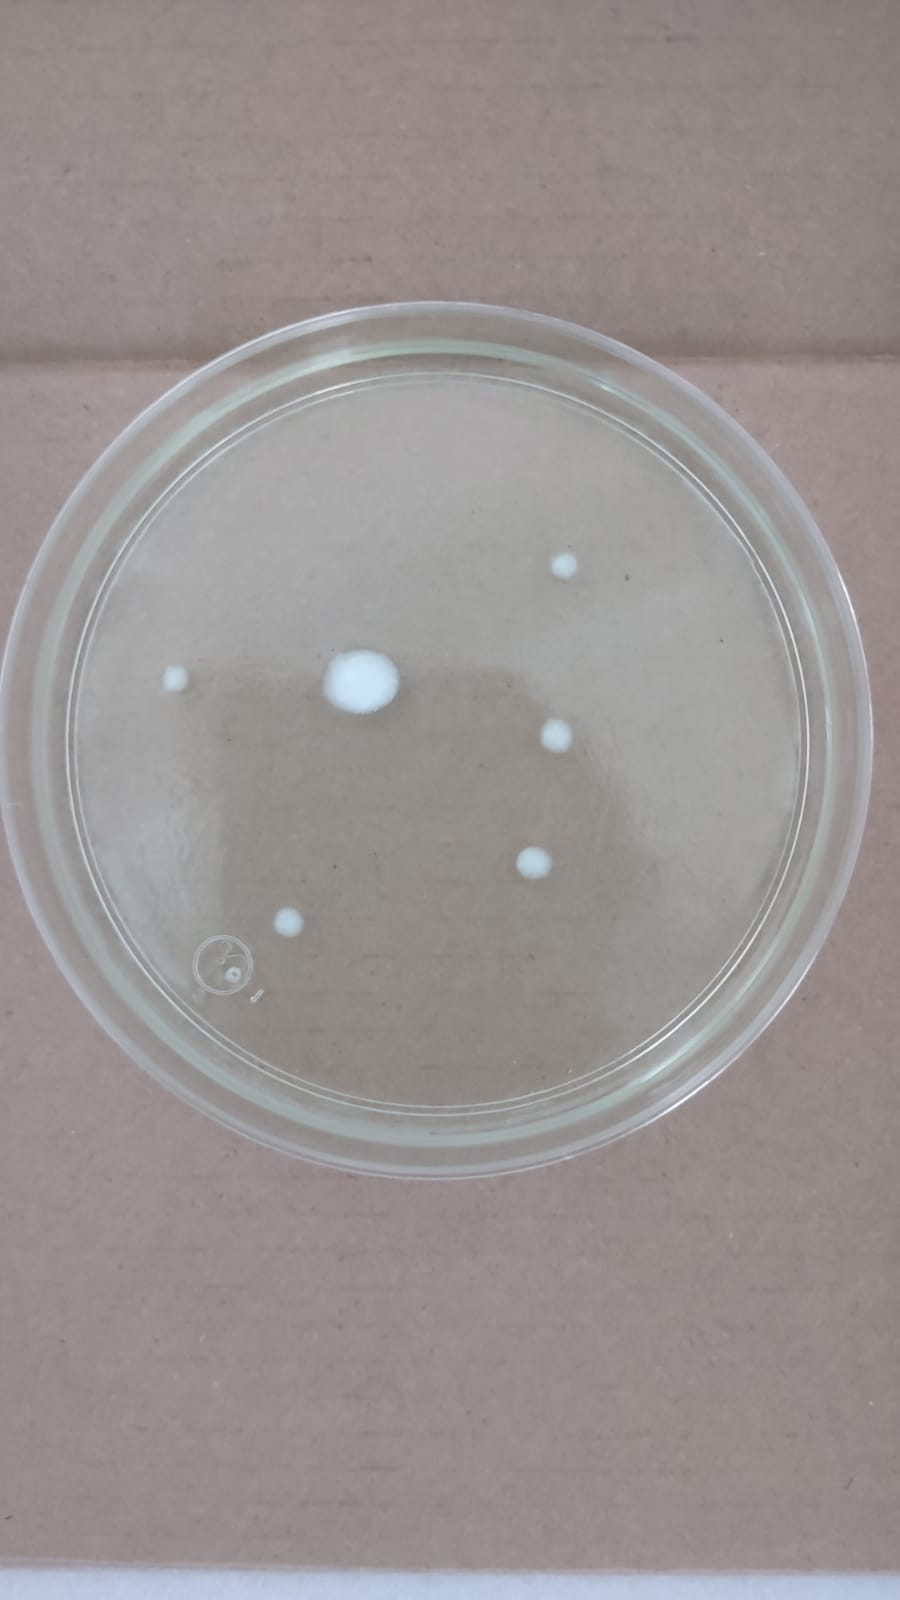Colonia: (319, 642, 408, 716), (508, 841, 556, 882), (536, 710, 575, 755), (270, 901, 313, 941), (549, 552, 586, 582), (163, 666, 191, 687)
